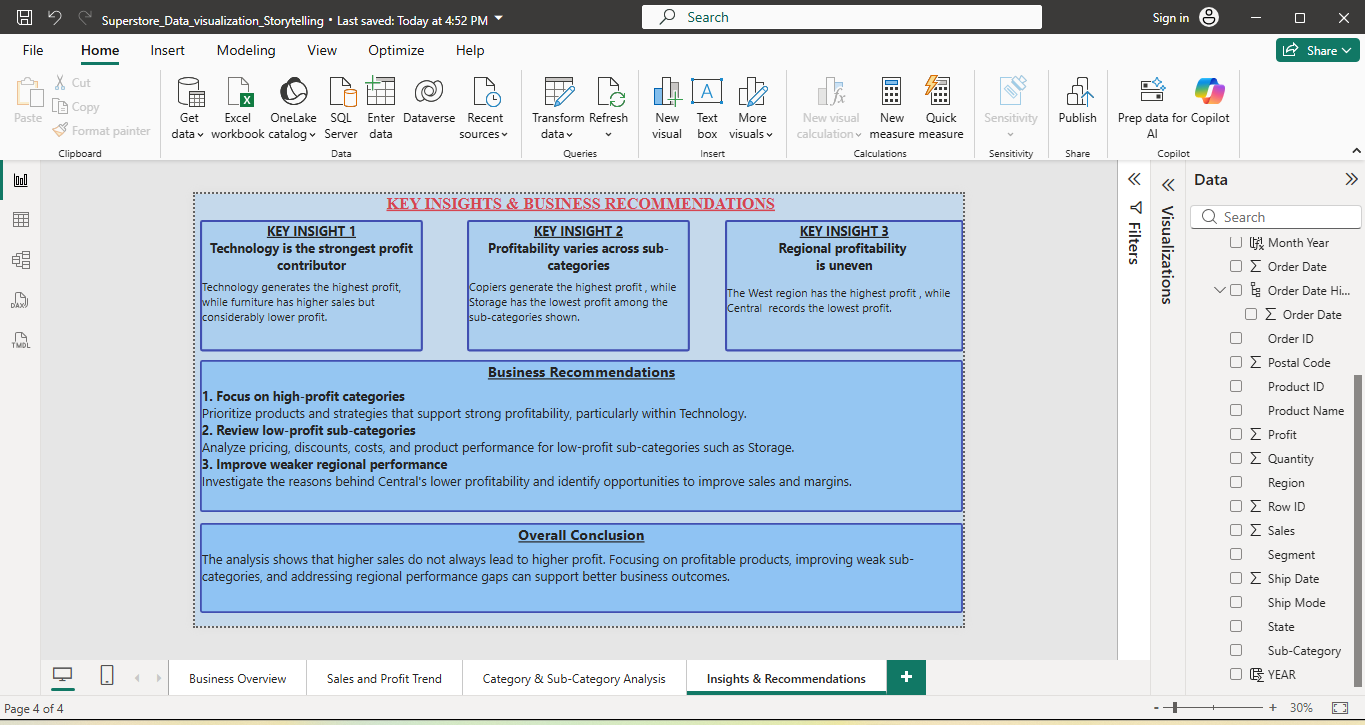

What the dashboard file says about the page in this screenshot:
{"tool":"powerbi","page":{"name":"Insights & Recommendations","canvas":[2560,1440],"ordinal":3},"visuals":[{"type":"textbox","box":[10,0,280,280],"z":0},{"type":"textbox","box":[8.6,0,2551.7,86.4],"z":1},{"type":"textbox","box":[1765.4,86.4,794.9,437.8],"z":2},{"type":"textbox","box":[907.2,86.4,743,437.8],"z":3},{"type":"textbox","box":[17.3,86.4,743,437.8],"z":4},{"type":"textbox","box":[17.3,553,2543,506.9],"z":5},{"type":"textbox","box":[17.3,1097.3,2543,299.5],"z":6}]}

Visuals, with their boxes on the page's 2560x1440 design canvas (x1, y1, x2, y2). These are canvas units, not pixel positions in the 1365x725 screenshot, which may show the page scaled, cropped or inside an application window:
textbox: bbox=[10, 0, 290, 280]
textbox: bbox=[9, 0, 2560, 86]
textbox: bbox=[1765, 86, 2560, 524]
textbox: bbox=[907, 86, 1650, 524]
textbox: bbox=[17, 86, 760, 524]
textbox: bbox=[17, 553, 2560, 1060]
textbox: bbox=[17, 1097, 2560, 1397]
